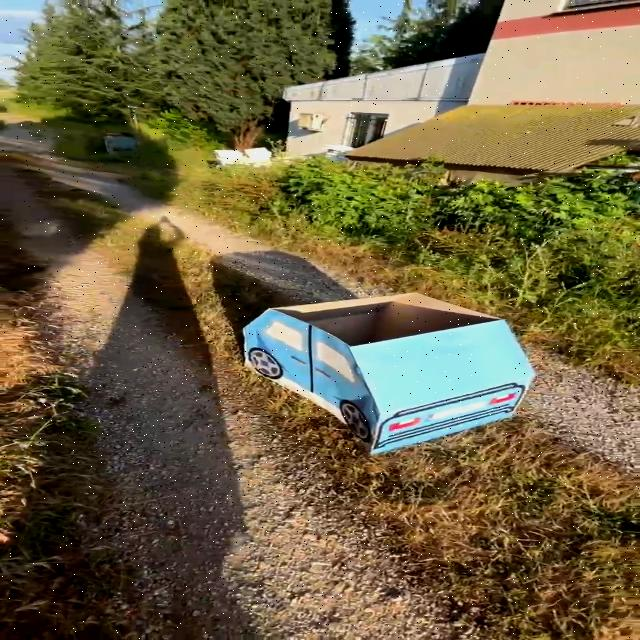blue_car: (207, 280, 588, 472)
